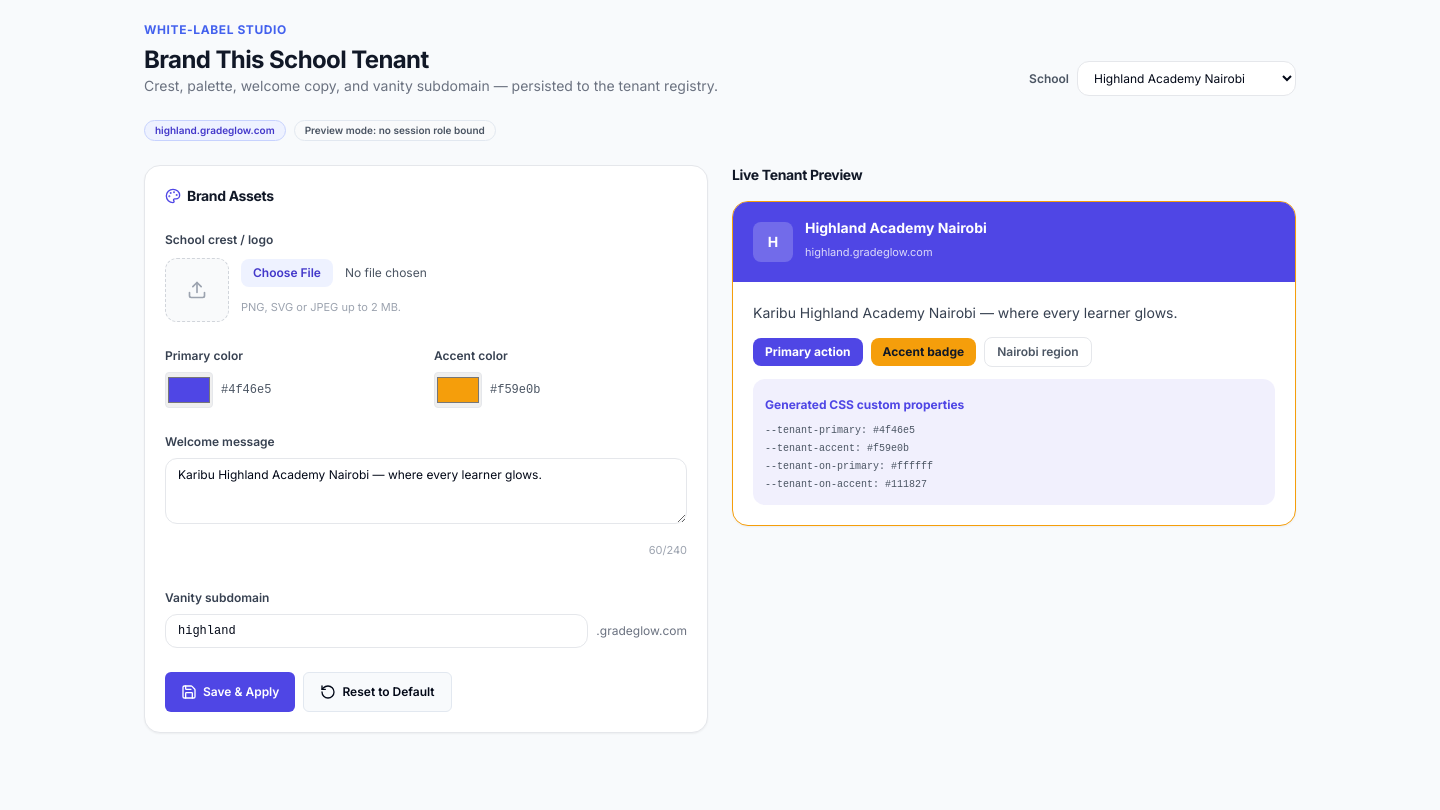
Test: WhiteLabelCustomizer › resets branding back to the school sample defaults
This screenshot has width=1440, height=810.
Type "#ff0000" into the colour field named "Primary brand color" at (189, 390), box [165,372,213,408]
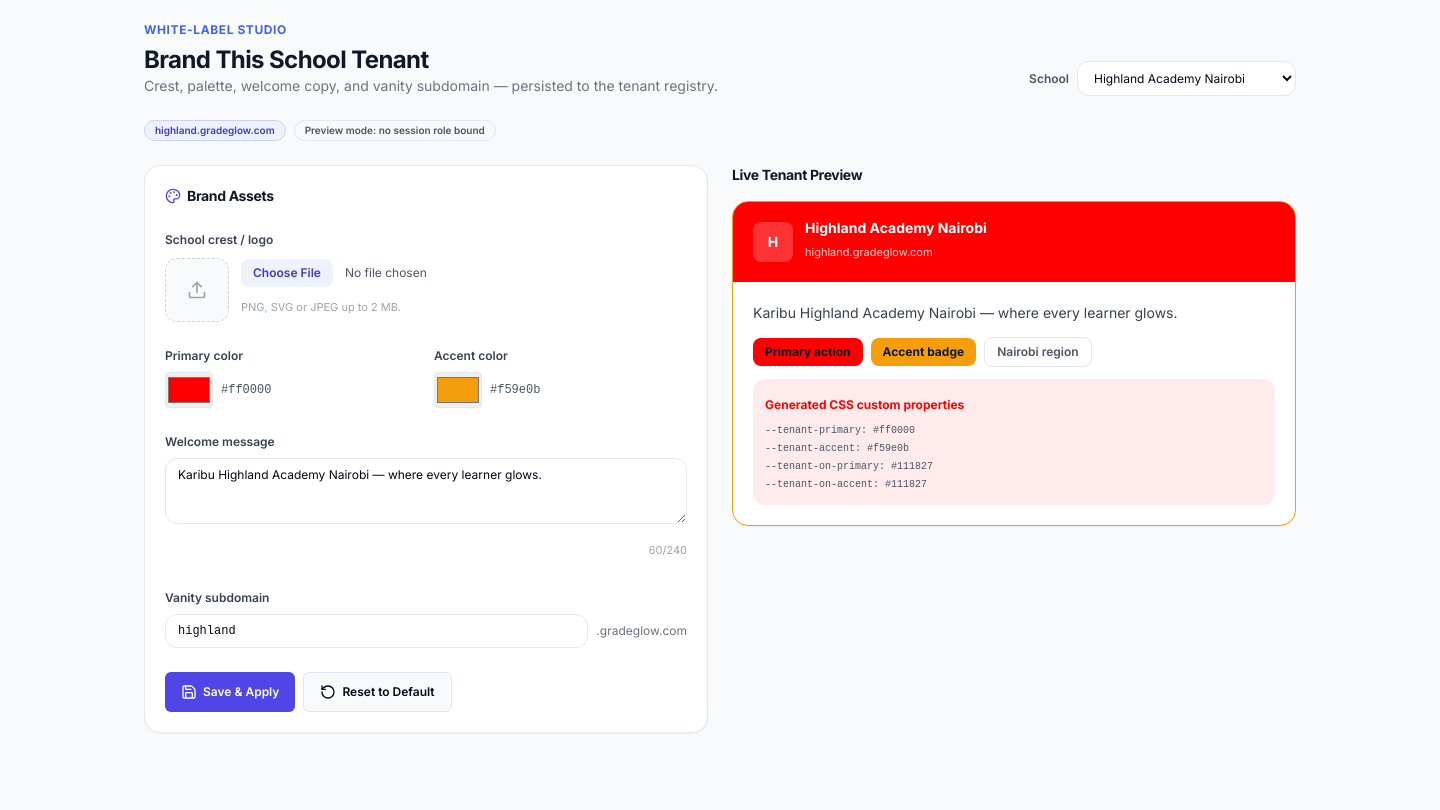
Replace the text in the text box labelled "Welcome message" with "Temporary copy" at (426, 491), box [165,458,687,524]
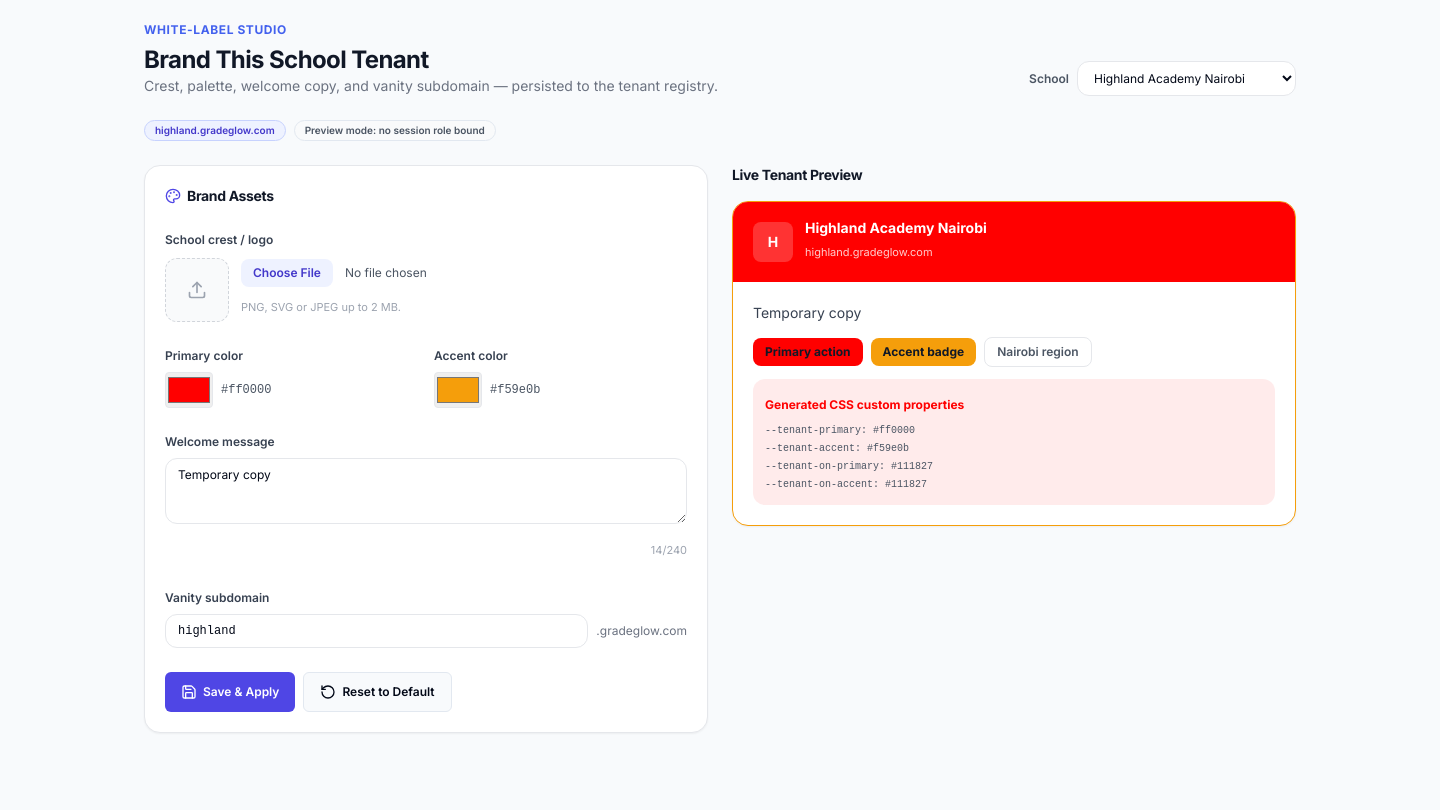
Click the button "Reset to Default" at (378, 692), box [303,672,452,712]
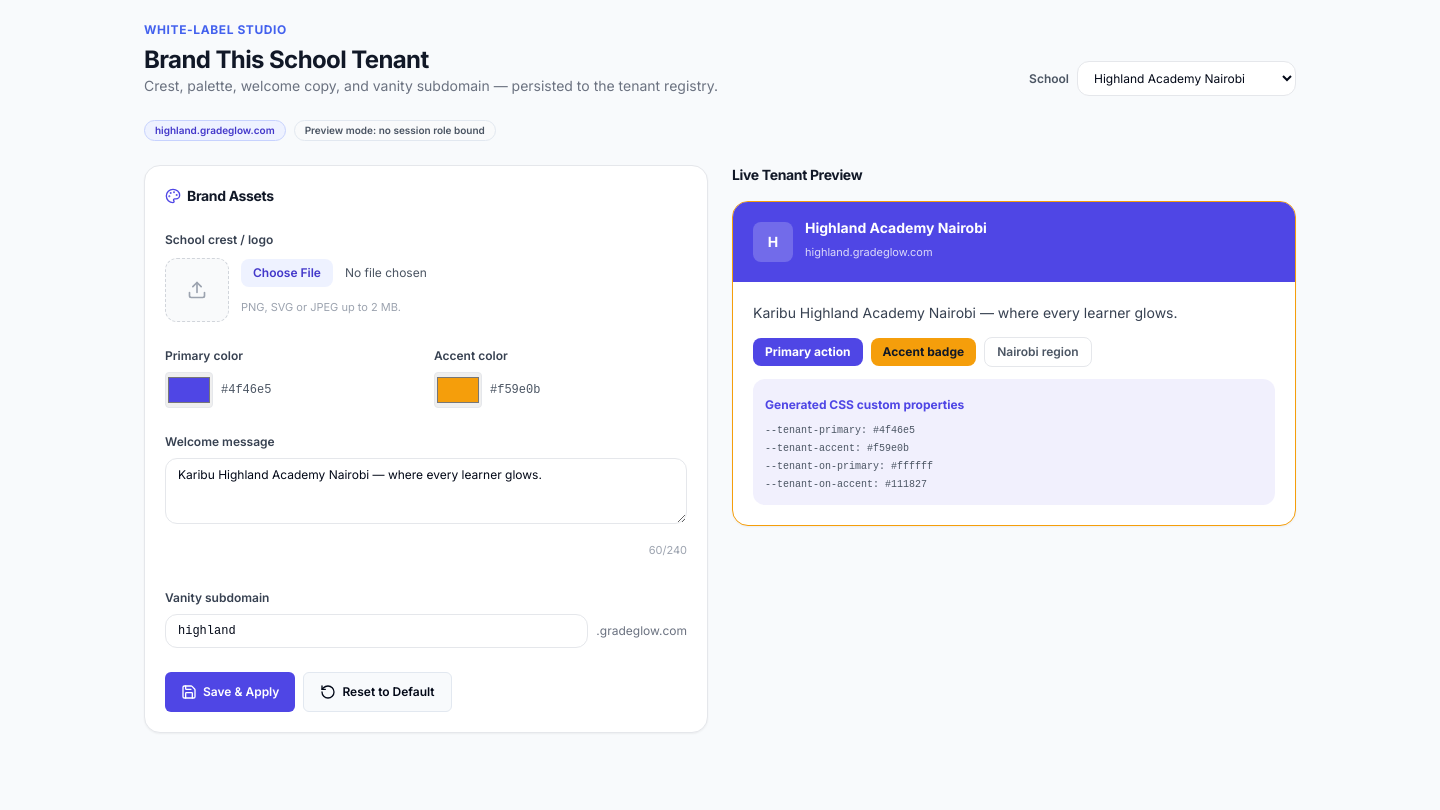
Check: the text "#4f46e5" is shown, box [221,382,271,398]
Check: the colour field named "Primary brand color" holds "#4f46e5", box [165,372,213,408]
